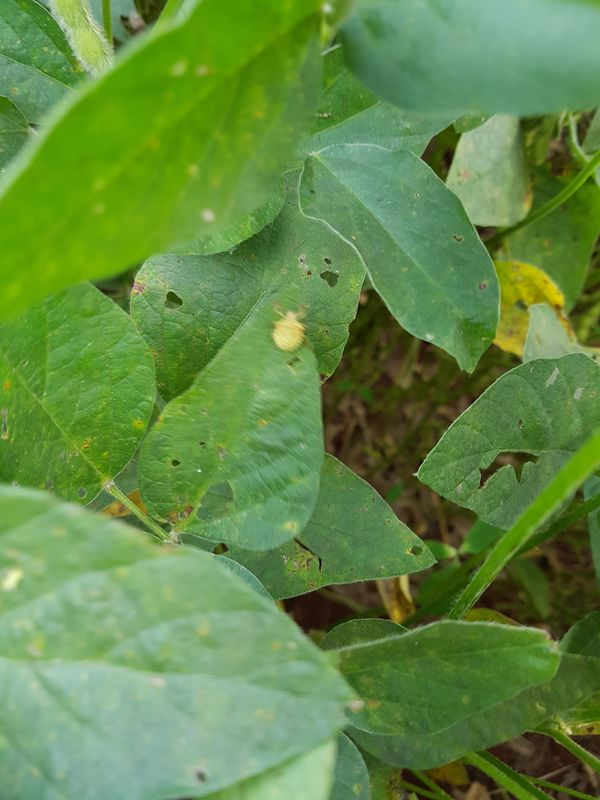Euschistus_heros_ninfa: (260, 296, 317, 358)
